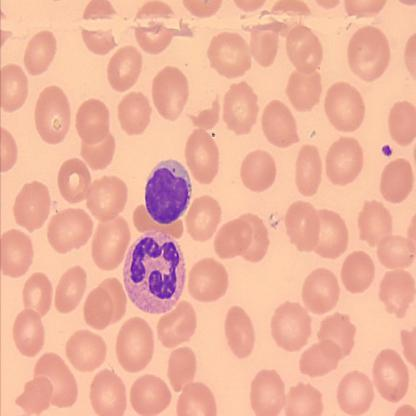Lymphocyte: (143, 156, 192, 226)
